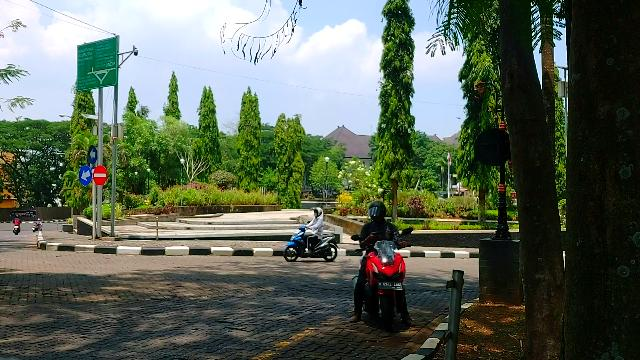helm: (370, 202, 387, 220), (311, 208, 323, 218)
motor: (354, 242, 406, 332), (285, 227, 340, 263)
